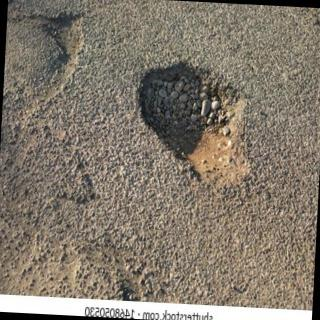pothole: (138, 62, 244, 179)
